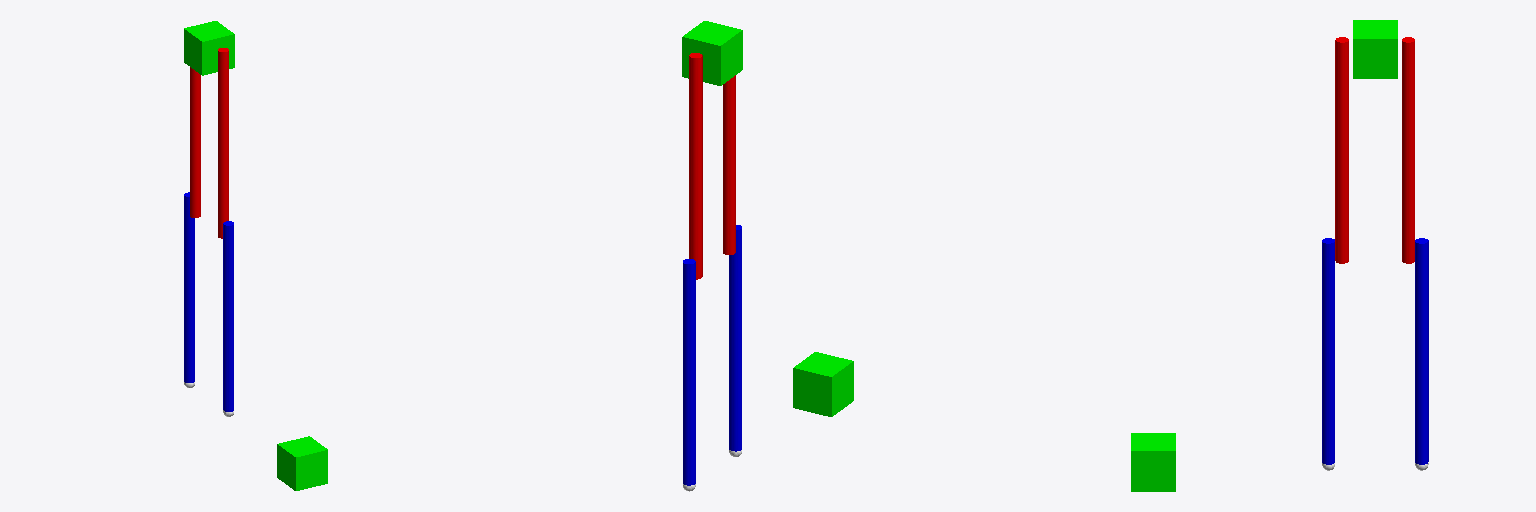
URDF robot description (biped_robot):
<?xml version="1.0"?>

<robot name="biped_robot">
  <link name="base_link">
    <visual>
      <geometry>
         <box size=".2 .2 .2" />
      </geometry>
      <material name="green">
	       <color rgba="0 1 0 1" />
      </material>
    </visual>
  </link>

   <joint name="base_to_hips_joint" type="floating">
    <parent link="base_link" />
    <child link="hips_link" />
    <origin xyz="0 1 2.05" rpy="0 0 0"/>
    <dynamics damping="0" />
  </joint>

     <!-- <joint name="base_to_hips_joint" type="continuous">
    <parent link="base_link" />
    <child link="hips_link" />
    <origin xyz="0 1 2.05" rpy="0 0 0"/>
    <axis xyz="0 1 0" />
    <dynamics damping="0" />
  </joint> -->

  <link name="hips_link">
    <inertial>
      <origin xyz="0 0 0" rpy="0 0 0" />
      <mass value="1" />
      <inertia ixx="1" ixy="0" ixz="0" iyy="0.083" iyz="0" izz="1" />
    </inertial>
     <visual>
      <origin xyz="0 0 0" rpy="0 0 0" />
      <geometry>
         <box size=".2 .2 .2" />
      </geometry>
      <material name="green">
	       <color rgba="0 1 0 1" />
      </material>
    </visual>
  </link>

<joint name="r_hips_joint" type="continuous">
    <parent link="hips_link" />
    <child link="r_thigh_link" />
    <origin xyz="0 -.15 0" />
    <axis xyz="0 1 0" />
    <dynamics damping="1" />
    <safety_controller k_velocity="10" k_position="15" soft_lower_limit="-2.0" soft_upper_limit="0.5" />
  </joint>

   <link name="r_thigh_link">
    <inertial>
      <origin xyz="0 0 -.5" rpy="0 0 0" />
      <mass value="1" />
      <inertia ixx="1" ixy="0" ixz="0" iyy="0.083" iyz="0" izz="1" />
    </inertial>
    <visual>
      <origin xyz="0 0 -.5" rpy="0 0 0" />
      <geometry>
         <cylinder length="1.1" radius=".03" />
      </geometry>
      <material name="red">
	       <color rgba="1 0 0 1" />
      </material>
    </visual>
  </link>

  <joint name="l_hips_joint" type="continuous">
    <parent link="hips_link" />
    <child link="l_thigh_link" />
    <origin xyz="0 .15 0" />
    <axis xyz="0 1 0" />
    <dynamics damping="0.1" />
    <safety_controller k_velocity="10" k_position="15" soft_lower_limit="-2.0" soft_upper_limit="0.5" />
  </joint>

   <link name="l_thigh_link">
    <inertial>
      <origin xyz="0 0 -.5" rpy="0 0 0" />
      <mass value="1" />
      <inertia ixx="1" ixy="0" ixz="0" iyy="0.083" iyz="0" izz="1" />
    </inertial>
    <visual>
      <origin xyz="0 0 -.5" rpy="0 0 0" />
      <geometry>
         <cylinder length="1.1" radius=".03" />
      </geometry>
      <material name="red">
	       <color rgba="1 0 0 1" />
      </material>
    </visual>
  </link>

<joint name="r_knee_joint" type="continuous">
    <parent link="r_thigh_link" />
    <child link="r_leg_link" />
    <origin xyz="0 0 -1" />
    <axis xyz="0 1 0" />
    <dynamics damping="1" />
    <safety_controller k_velocity="10" k_position="15" soft_lower_limit="-2.0" soft_upper_limit="0.5" />
  </joint>

  <link name="r_leg_link">
    <inertial>
      <origin xyz="0 0 -0.5" rpy="0 0 0" />
      <mass value="1" />
      <inertia ixx="1" ixy="0" ixz="0" iyy="0.33" iyz="0" izz="1" />
    </inertial>
    <visual>
      <origin xyz="0 -0.06 -0.5" rpy="0 0 0" />
      <geometry>
         <cylinder length="1.1" radius=".03" />
      </geometry>
      <material name="blue">
	       <color rgba="0 0 1 1" />
      </material>
    </visual>
  </link>  

<joint name="l_knee_joint" type="continuous">
    <parent link="l_thigh_link" />
    <child link="l_leg_link" />
    <origin xyz="0 0 -1" />
    <axis xyz="0 1 0" />
    <dynamics damping="1" />
    <safety_controller k_velocity="10" k_position="15" soft_lower_limit="-2.0" soft_upper_limit="0.5" />
  </joint>

  <link name="l_leg_link">
    <inertial>
      <origin xyz="0 0 -0.5" rpy="0 0 0" />
      <mass value="1" />
      <inertia ixx="1" ixy="0" ixz="0" iyy="0.33" iyz="0" izz="1" />
    </inertial>
    <visual>
      <origin xyz="0 0.06 -0.5" rpy="0 0 0" />
      <geometry>
         <cylinder length="1.1" radius=".03" />
      </geometry>
      <material name="blue">
	       <color rgba="0 0 1 1" />
      </material>
    </visual>
  </link> 

  <joint name="r_foot_joint" type="fixed">
    <parent link="r_leg_link" />
    <child link="r_foot_link" />
    <origin xyz="0 0 -1" />
  </joint>

  <link name="r_foot_link">
    <inertial>
      <origin xyz="0 0 -0.06" rpy="0 0 0" />
      <mass value="1" />
      <inertia ixx="1" ixy="0" ixz="0" iyy="0.33" iyz="0" izz="1" />
    </inertial>
    <visual>
      <origin xyz="0 -0.06 -0.06" rpy="0 0 0" />
      <geometry>
         <sphere  radius=".03" />
      </geometry>
      <material name="white">
	       <color rgba="1 1 1 1" />
      </material>
    </visual>
  </link> 

  <joint name="l_foot_joint" type="fixed">
    <parent link="l_leg_link" />
    <child link="l_foot_link" />
    <origin xyz="0 0 -1" />
  </joint>

  <link name="l_foot_link">
    <inertial>
      <origin xyz="0 0 -0.06" rpy="0 0 0" />
      <mass value="1" />
      <inertia ixx="1" ixy="0" ixz="0" iyy="0.33" iyz="0" izz="1" />
    </inertial>
    <visual>
      <origin xyz="0 0.06 -0.06" rpy="0 0 0" />
      <geometry>
         <sphere  radius=".03" />
      </geometry>
      <material name="white">
	       <color rgba="1 1 1 1" />
      </material>
    </visual>
  </link> 

</robot>

--- What the picture shows (computed from the rendered views, not written in the file) ---
The picture shows the robot from 3 angles, left to right: view 1: azimuth 30°, elevation 25°; view 2: azimuth 150°, elevation 25°; view 3: azimuth 270°, elevation 25°; orthographic projection.
Model biped_robot with 8 links and 7 joints (4 continuous, 2 fixed, 1 floating), rooted at base_link, posed every joint at zero.
Visible links, largest first — view 1: base_link, r_leg_link, hips_link, r_thigh_link, l_leg_link, l_thigh_link; view 2: base_link, l_thigh_link, l_leg_link, hips_link, r_leg_link, r_thigh_link; view 3: r_thigh_link, l_leg_link, r_leg_link, l_thigh_link, base_link, hips_link.
Boxes of the visible links, box(x1,y1,x2,y2) form: base_link: box(277, 436, 327, 490); r_leg_link: box(223, 221, 233, 411); hips_link: box(184, 21, 234, 75); r_thigh_link: box(218, 48, 228, 238); l_leg_link: box(184, 192, 194, 382); l_thigh_link: box(190, 67, 200, 217); base_link: box(793, 352, 853, 416); l_thigh_link: box(689, 53, 702, 279); l_leg_link: box(683, 259, 695, 485); hips_link: box(682, 21, 742, 85); r_leg_link: box(729, 225, 741, 451); r_thigh_link: box(723, 75, 735, 254); r_thigh_link: box(1335, 37, 1348, 263); l_leg_link: box(1415, 238, 1428, 464); r_leg_link: box(1322, 238, 1334, 464); l_thigh_link: box(1402, 37, 1414, 263); base_link: box(1131, 433, 1175, 491); hips_link: box(1353, 20, 1397, 78).
Size in the robot's own frame: 0.2 by 1.34 by 2.25 metres.
Geometry: primitives only (box / cylinder / sphere), no mesh files.
